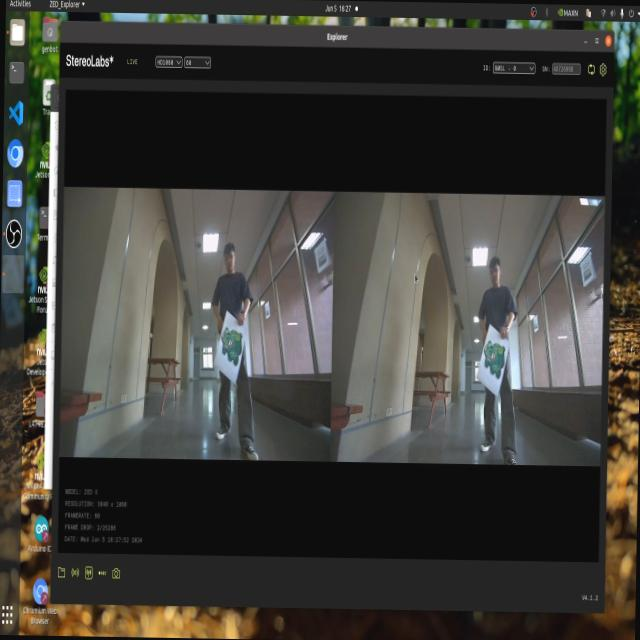green: (208, 311, 249, 364), (478, 323, 504, 382)
